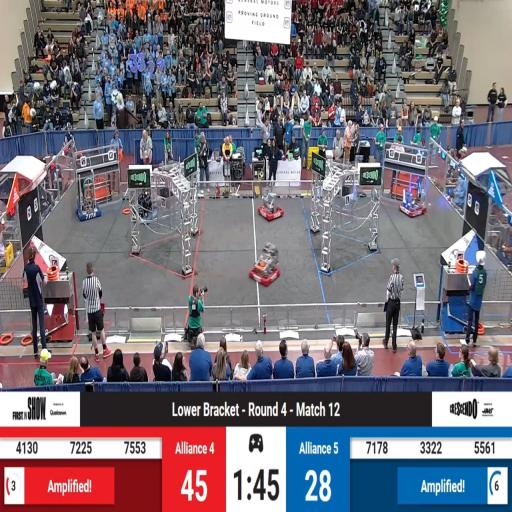robot: (250, 244, 281, 287), (77, 173, 102, 220), (401, 184, 426, 217), (128, 196, 158, 223), (260, 196, 284, 222)
